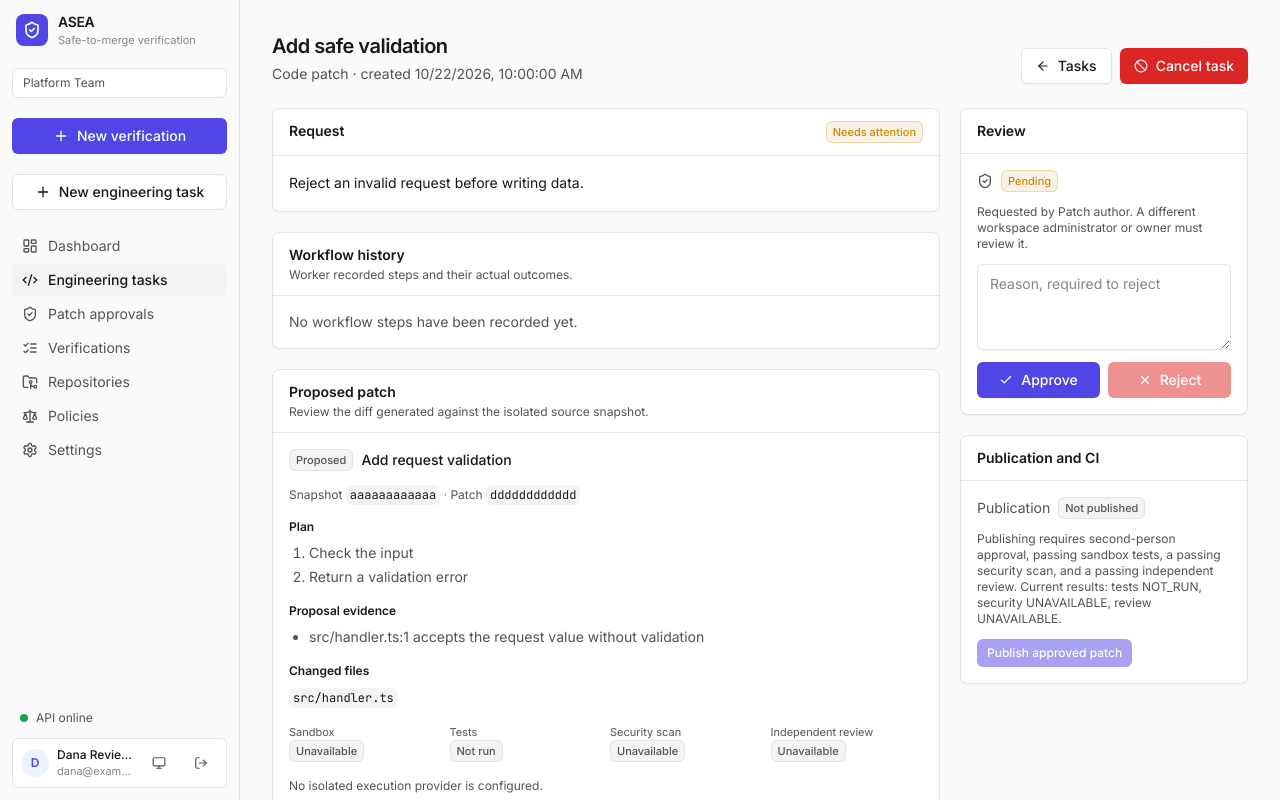
Test: application workflows › loads a persisted patch and records an authorized approval decision
This screenshot has width=1280, height=800.
Check: the text "Add request validation" is shown, box [361,450,512,470]
Check: the text "Tests" is shown, box [450,725,477,739]
Click the button "Approve" at (1038,380), box [977,362,1100,398]
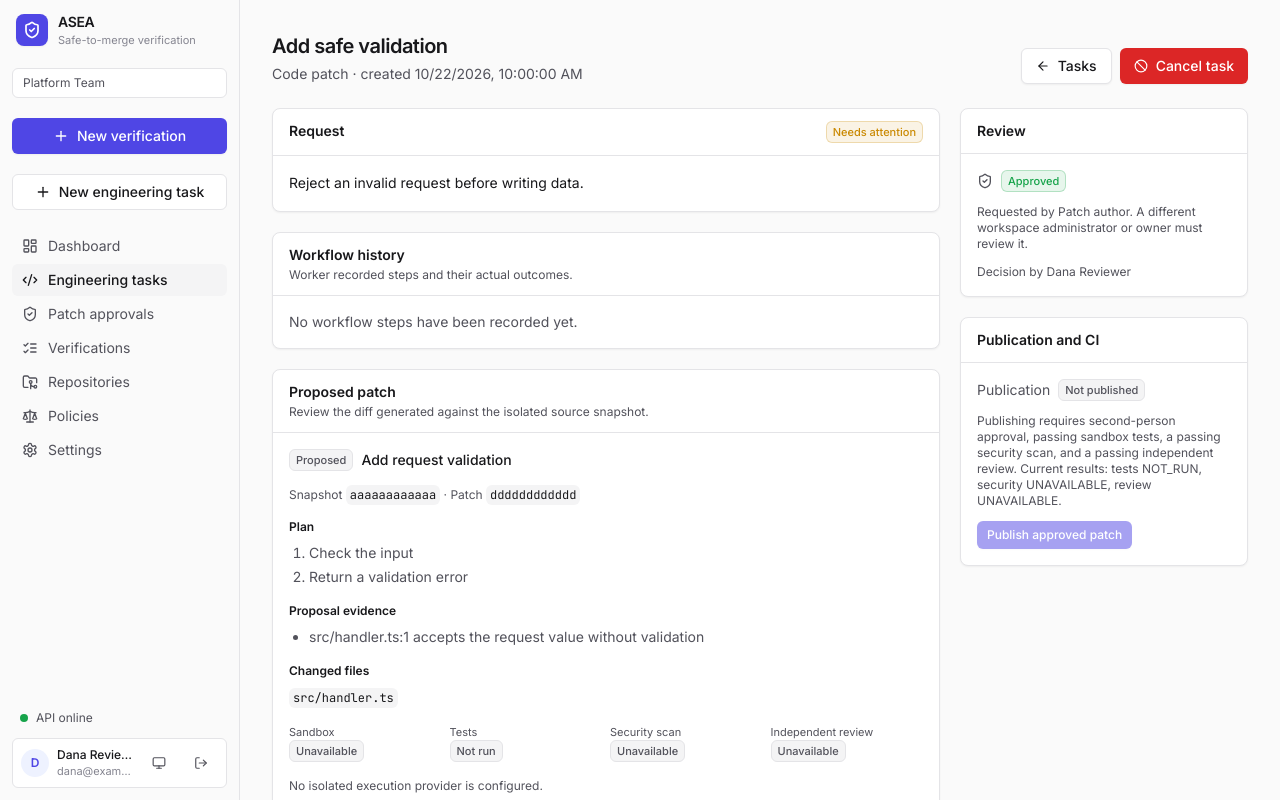
Check: the text "Decision by Dana Reviewer" is shown, box [977,264,1131,279]
